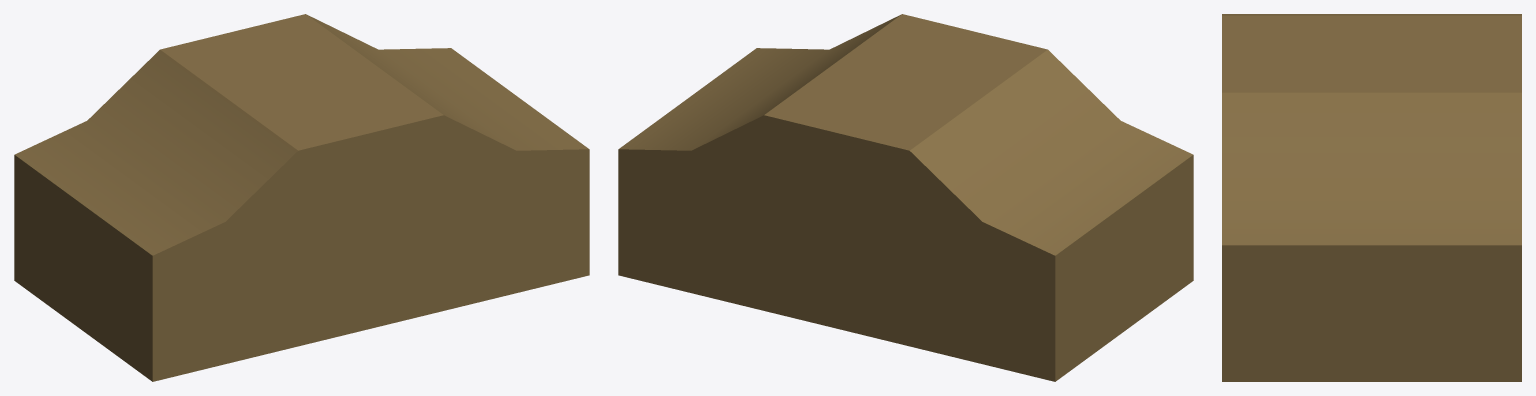
File: Itr_Obj_Grandfatherclock2_Top_01.FBX
3 views of the same model, side by side, from view 1: azimuth 30°, elevation 25°; view 2: azimuth 150°, elevation 25°; view 3: azimuth 270°, elevation 25° (orthographic). The views are drawn at different scales.
Visible parts, largest first — view 1: Itr_Obj_Grandfatherclock2_Top_01; view 2: Itr_Obj_Grandfatherclock2_Top_01; view 3: Itr_Obj_Grandfatherclock2_Top_01.
Boxes of the visible parts, x1,y1,x2,y2 form: Itr_Obj_Grandfatherclock2_Top_01: (14,14,589,381); Itr_Obj_Grandfatherclock2_Top_01: (618,14,1193,381); Itr_Obj_Grandfatherclock2_Top_01: (1222,14,1521,381).
Bounding box in the file's own units: 23.74 × 10.17 × 13.01.
